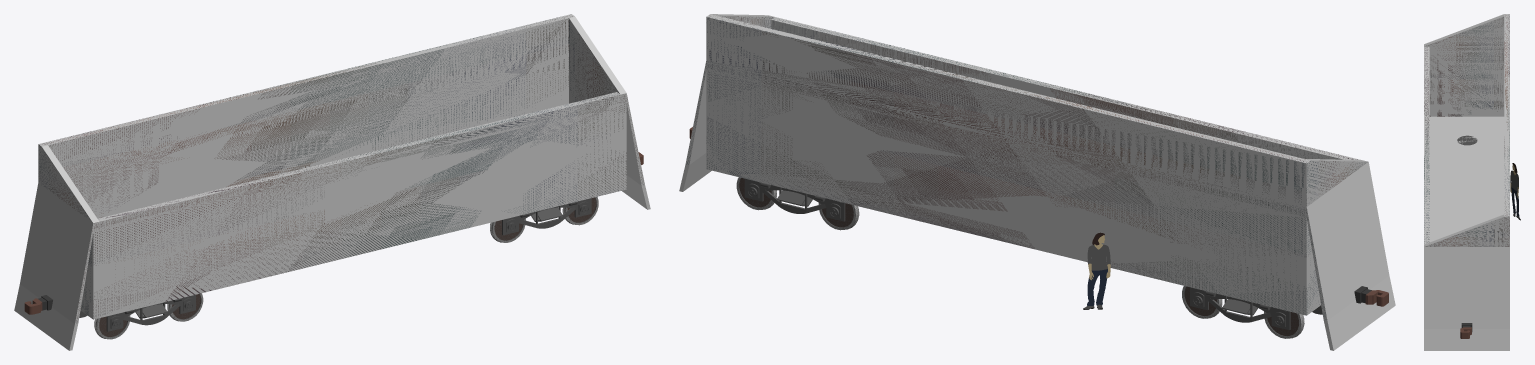
Rendered from TrainCar.dae.
The picture shows the model from 3 angles, left to right: view 1: azimuth 30°, elevation 25°; view 2: azimuth 150°, elevation 25°; view 3: azimuth 270°, elevation 25°; orthographic projection. The views are drawn at different scales.
Parts seen in each view (by area): view 1: Componente_1 (×5), train_truck-half-001 (×2); view 2: Componente_1 (×3), train_truck-half-001 (×2); view 3: Componente_1 (×5), Susan (×2), complete-engine-truck-001_1, cupler-001.
Boxes of the visible parts, bbox=[...] form: Componente_1 (×5): bbox=[14, 14, 650, 350]; train_truck-half-001 (×2): bbox=[106, 198, 591, 331]; Componente_1 (×3): bbox=[679, 14, 1395, 350]; train_truck-half-001 (×2): bbox=[744, 178, 1290, 330]; Componente_1 (×5): bbox=[1424, 14, 1509, 350]; Susan (×2): bbox=[1510, 170, 1519, 216]; complete-engine-truck-001_1: bbox=[1457, 135, 1477, 145]; cupler-001: bbox=[1460, 327, 1471, 338].
Size of the model in its own units: 628 by 110 by 168.
